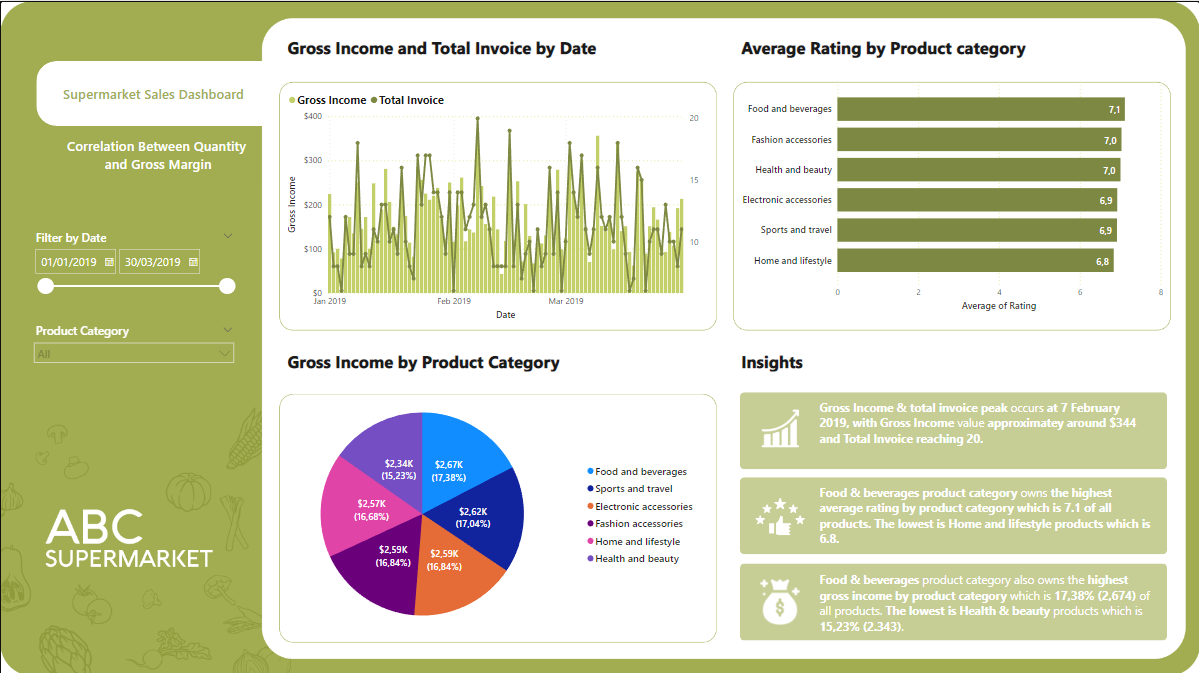

What the dashboard file says about the page in this screenshot:
{"tool":"powerbi","page":{"name":"Sales","canvas":[1920,1080],"ordinal":0},"visuals":[{"type":"lineClusteredColumnComboChart","fields":{"Y":["Sum(transaction_table.gross_income)"],"Y2":["Count(transaction_table.invoice_id)"],"Category":["transaction_table.date"]},"box":[456,136,680,380],"z":0},{"type":"pieChart","fields":{"Category":["product_category_table.product_category"],"Y":["Sum(transaction_table.gross_income)"]},"box":[408,570,714,502],"z":1000},{"type":"barChart","fields":{"Category":["product_category_table.product_category"],"Y":["Avg(transaction_table.rating)"]},"box":[1182,122,684,380],"z":2000},{"type":"actionButton","box":[456,38,558,70],"z":3000},{"type":"actionButton","box":[1182,38,558,70],"z":4000},{"type":"actionButton","box":[456,540,558,70],"z":5000},{"type":"actionButton","box":[80,198,338,96],"z":6000},{"type":"actionButton","box":[57.6,96,366,104],"z":7000},{"type":"slicer","fields":{"Values":["transaction_table.date"]},"box":[43.4,360,340.1,152],"z":8000},{"type":"slicer","fields":{"Values":["product_category_table.product_category"]},"box":[43.2,510.4,340,88],"z":9000},{"type":"actionButton","box":[1182.5,540,557.5,70],"z":10000},{"type":"actionButton","box":[1183.3,900.4,683.3,123.3],"z":11000},{"type":"textbox","box":[1306.7,907.1,541.7,111.7],"z":12000},{"type":"actionButton","box":[1183.3,762.7,683.3,123.3],"z":13000},{"type":"textbox","box":[1306.7,768.3,541.7,111.7],"z":14000},{"type":"actionButton","box":[1183.3,625,683.3,123.3],"z":15000},{"type":"textbox","box":[1306.7,631.7,541.7,111.7],"z":16000},{"type":"image","box":[1203.3,900,88.3,123.3],"z":17000},{"type":"image","box":[1194,764,108,122],"z":18000},{"type":"image","box":[1204,646,88,76],"z":19000}]}

Visuals, with their boxes in screenshot pixels (x1, y1, x2, y2), scaled from the page's 1920x1080 canvas onto the 1199x673 screenshot:
lineClusteredColumnComboChart - Sum(transaction_table.gross_income) x Count(transaction_table.invoice_id): [285,85,709,322]
pieChart - product_category_table.product_category x Sum(transaction_table.gross_income): [255,355,701,668]
barChart - product_category_table.product_category x Avg(transaction_table.rating): [738,76,1165,313]
actionButton: [285,24,633,67]
actionButton: [738,24,1087,67]
actionButton: [285,336,633,380]
actionButton: [50,123,261,183]
actionButton: [36,60,265,125]
slicer - transaction_table.date: [27,224,239,319]
slicer - product_category_table.product_category: [27,318,239,373]
actionButton: [738,336,1087,380]
actionButton: [739,561,1166,638]
textbox: [816,565,1154,635]
actionButton: [739,475,1166,552]
textbox: [816,479,1154,548]
actionButton: [739,389,1166,466]
textbox: [816,394,1154,463]
image: [751,561,807,638]
image: [746,476,813,552]
image: [752,403,807,450]
